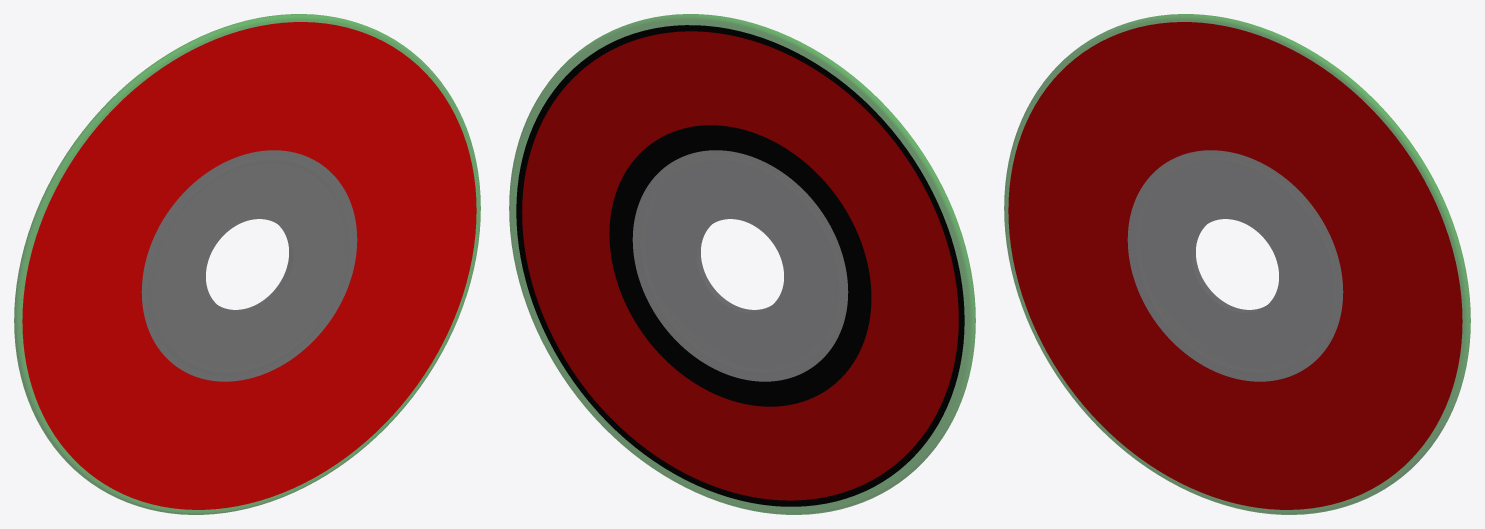
The model's file is gc_mini_dvd.glb.
The picture shows the model from 3 angles, left to right: view 1: azimuth 30°, elevation 25°; view 2: azimuth 150°, elevation 25°; view 3: azimuth 330°, elevation 25°; orthographic projection.
Visible parts, largest first — view 1: label, shell; view 2: mirror, shell; view 3: label, shell.
Part boxes in pixels (x1,y1,x2,y2): label: [22, 22, 476, 509]; shell: [14, 14, 480, 514]; mirror: [516, 25, 964, 506]; shell: [509, 14, 975, 514]; label: [1008, 22, 1462, 509]; shell: [1004, 14, 1470, 514].
Size of the model in its own units: 0.08 by 0.08 by 0.0015.
